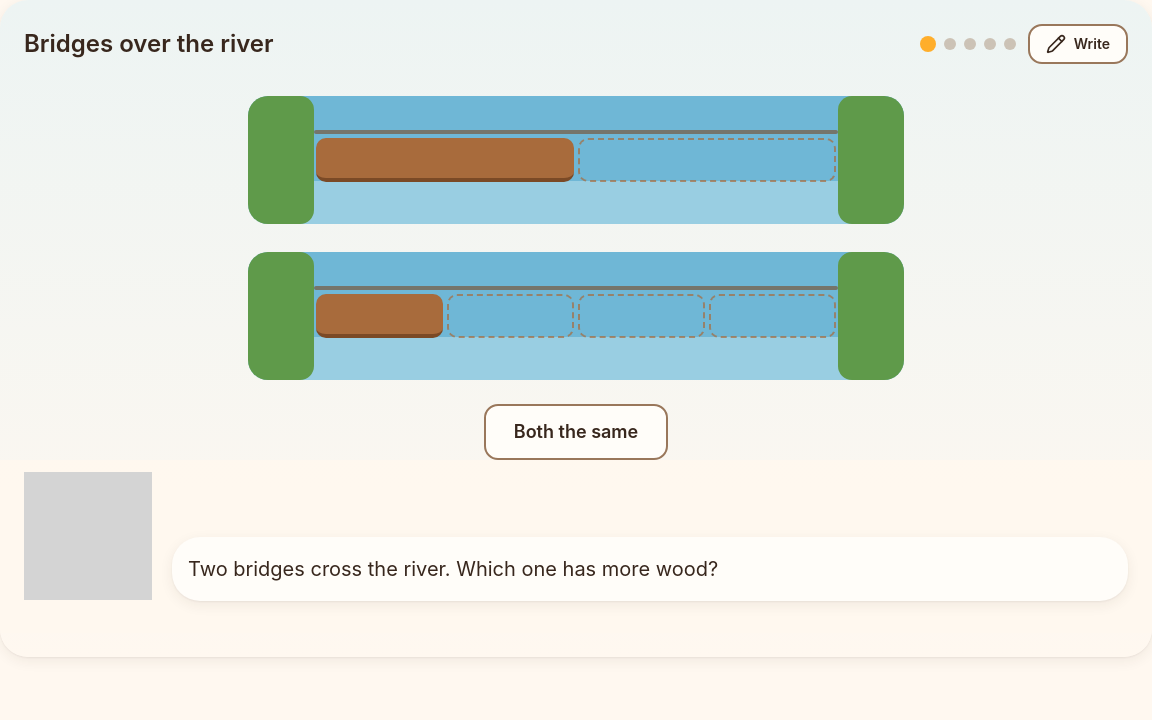
Test: LessonPlayer › sends the tap as a scene event and shows the backend feedback, then moves on
Step 1. Click the button named "upper bridge" → click(576, 160), box [240, 88, 912, 232]
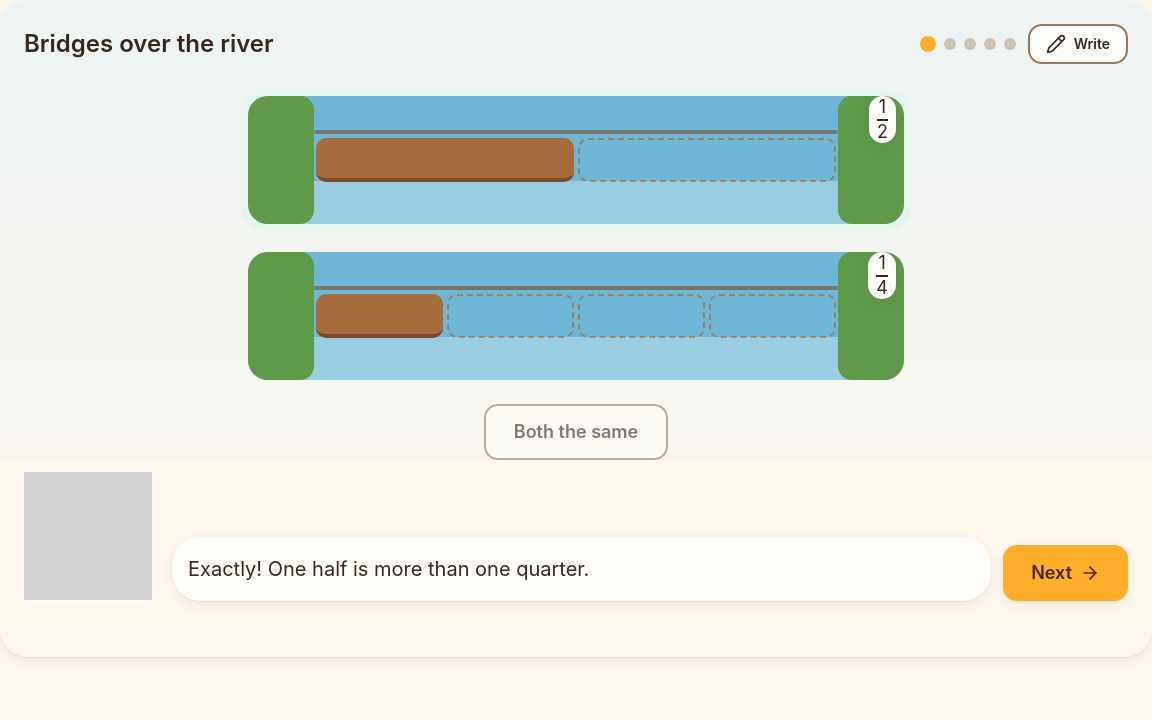
Expected: the text "Exactly! One half is more than one quarter." is shown, [172, 537, 991, 601]
Expected: the button named "upper bridge" is disabled, [240, 88, 912, 232]
Step 2. Click the button "Next" → click(1066, 573), box [1003, 545, 1128, 601]
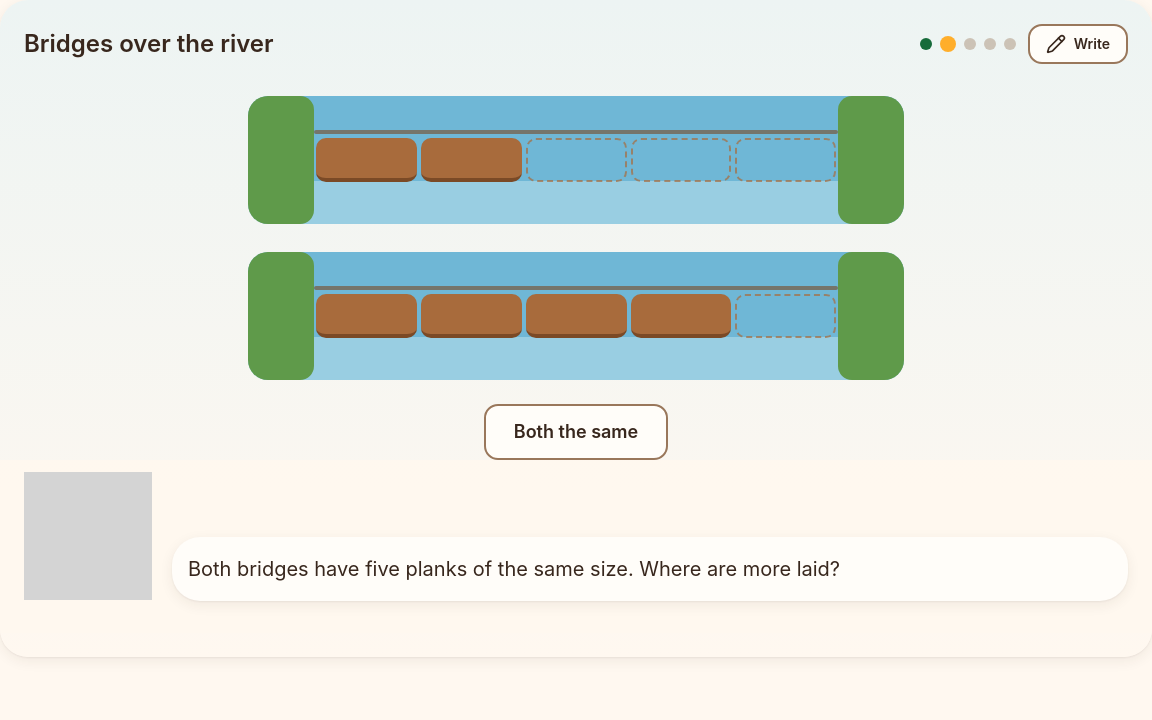
Expected: the text "Both bridges have five planks of the same size. Where are more laid?" is shown, [172, 537, 1128, 601]
